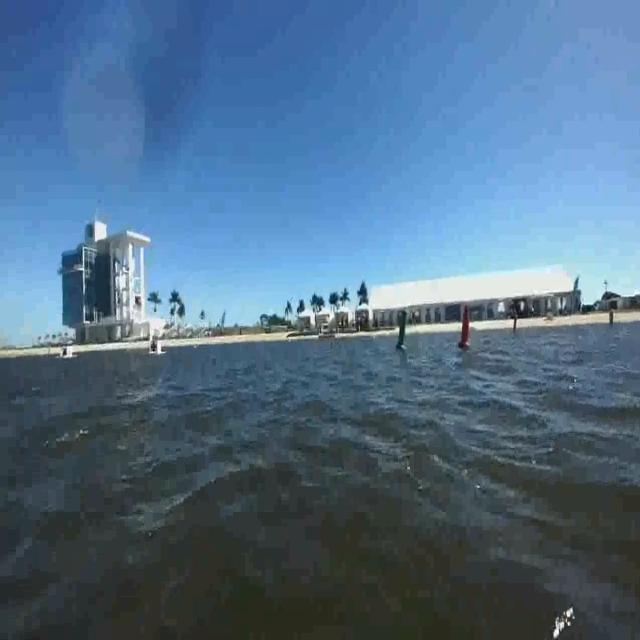green-column-buoy: (395, 298, 411, 359)
red-column-buoy: (457, 302, 474, 348)
